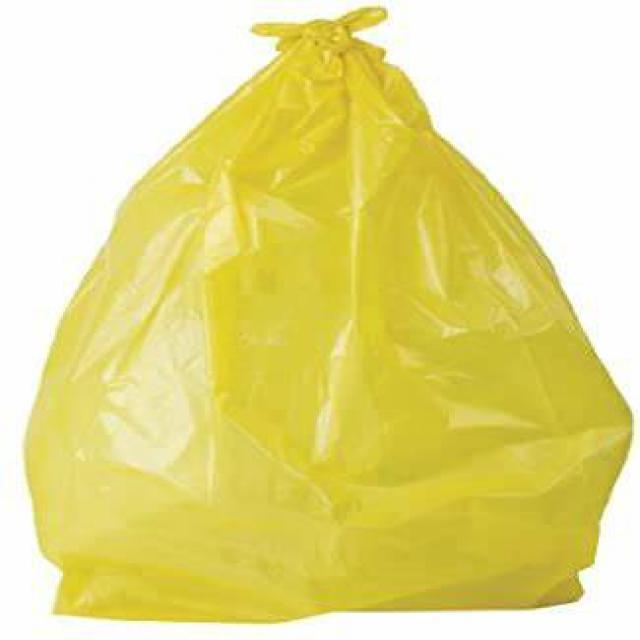waste: (20, 7, 629, 622)
